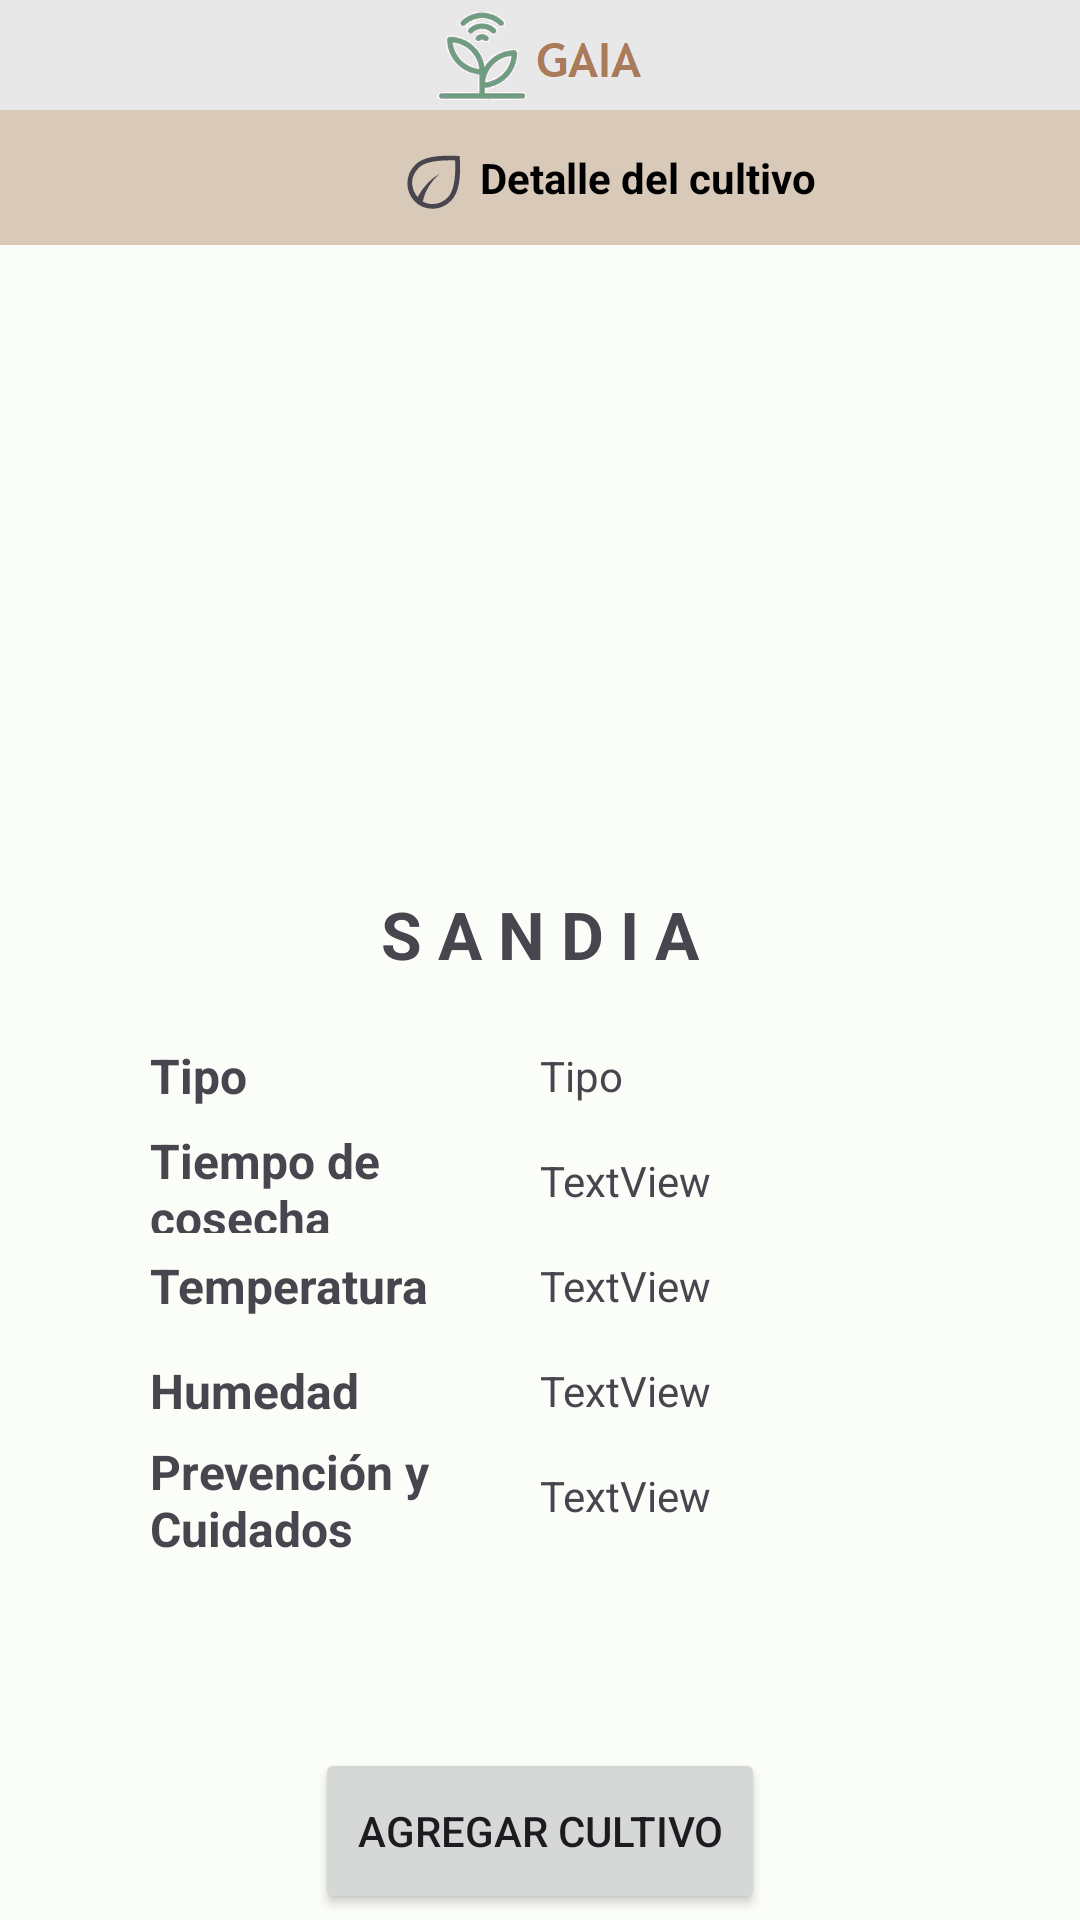

Icon bounding boxes for this 1080x1920 phone screenshot, format box(x1, y1, x2, y2):
leaf: box(407, 155, 460, 209)
